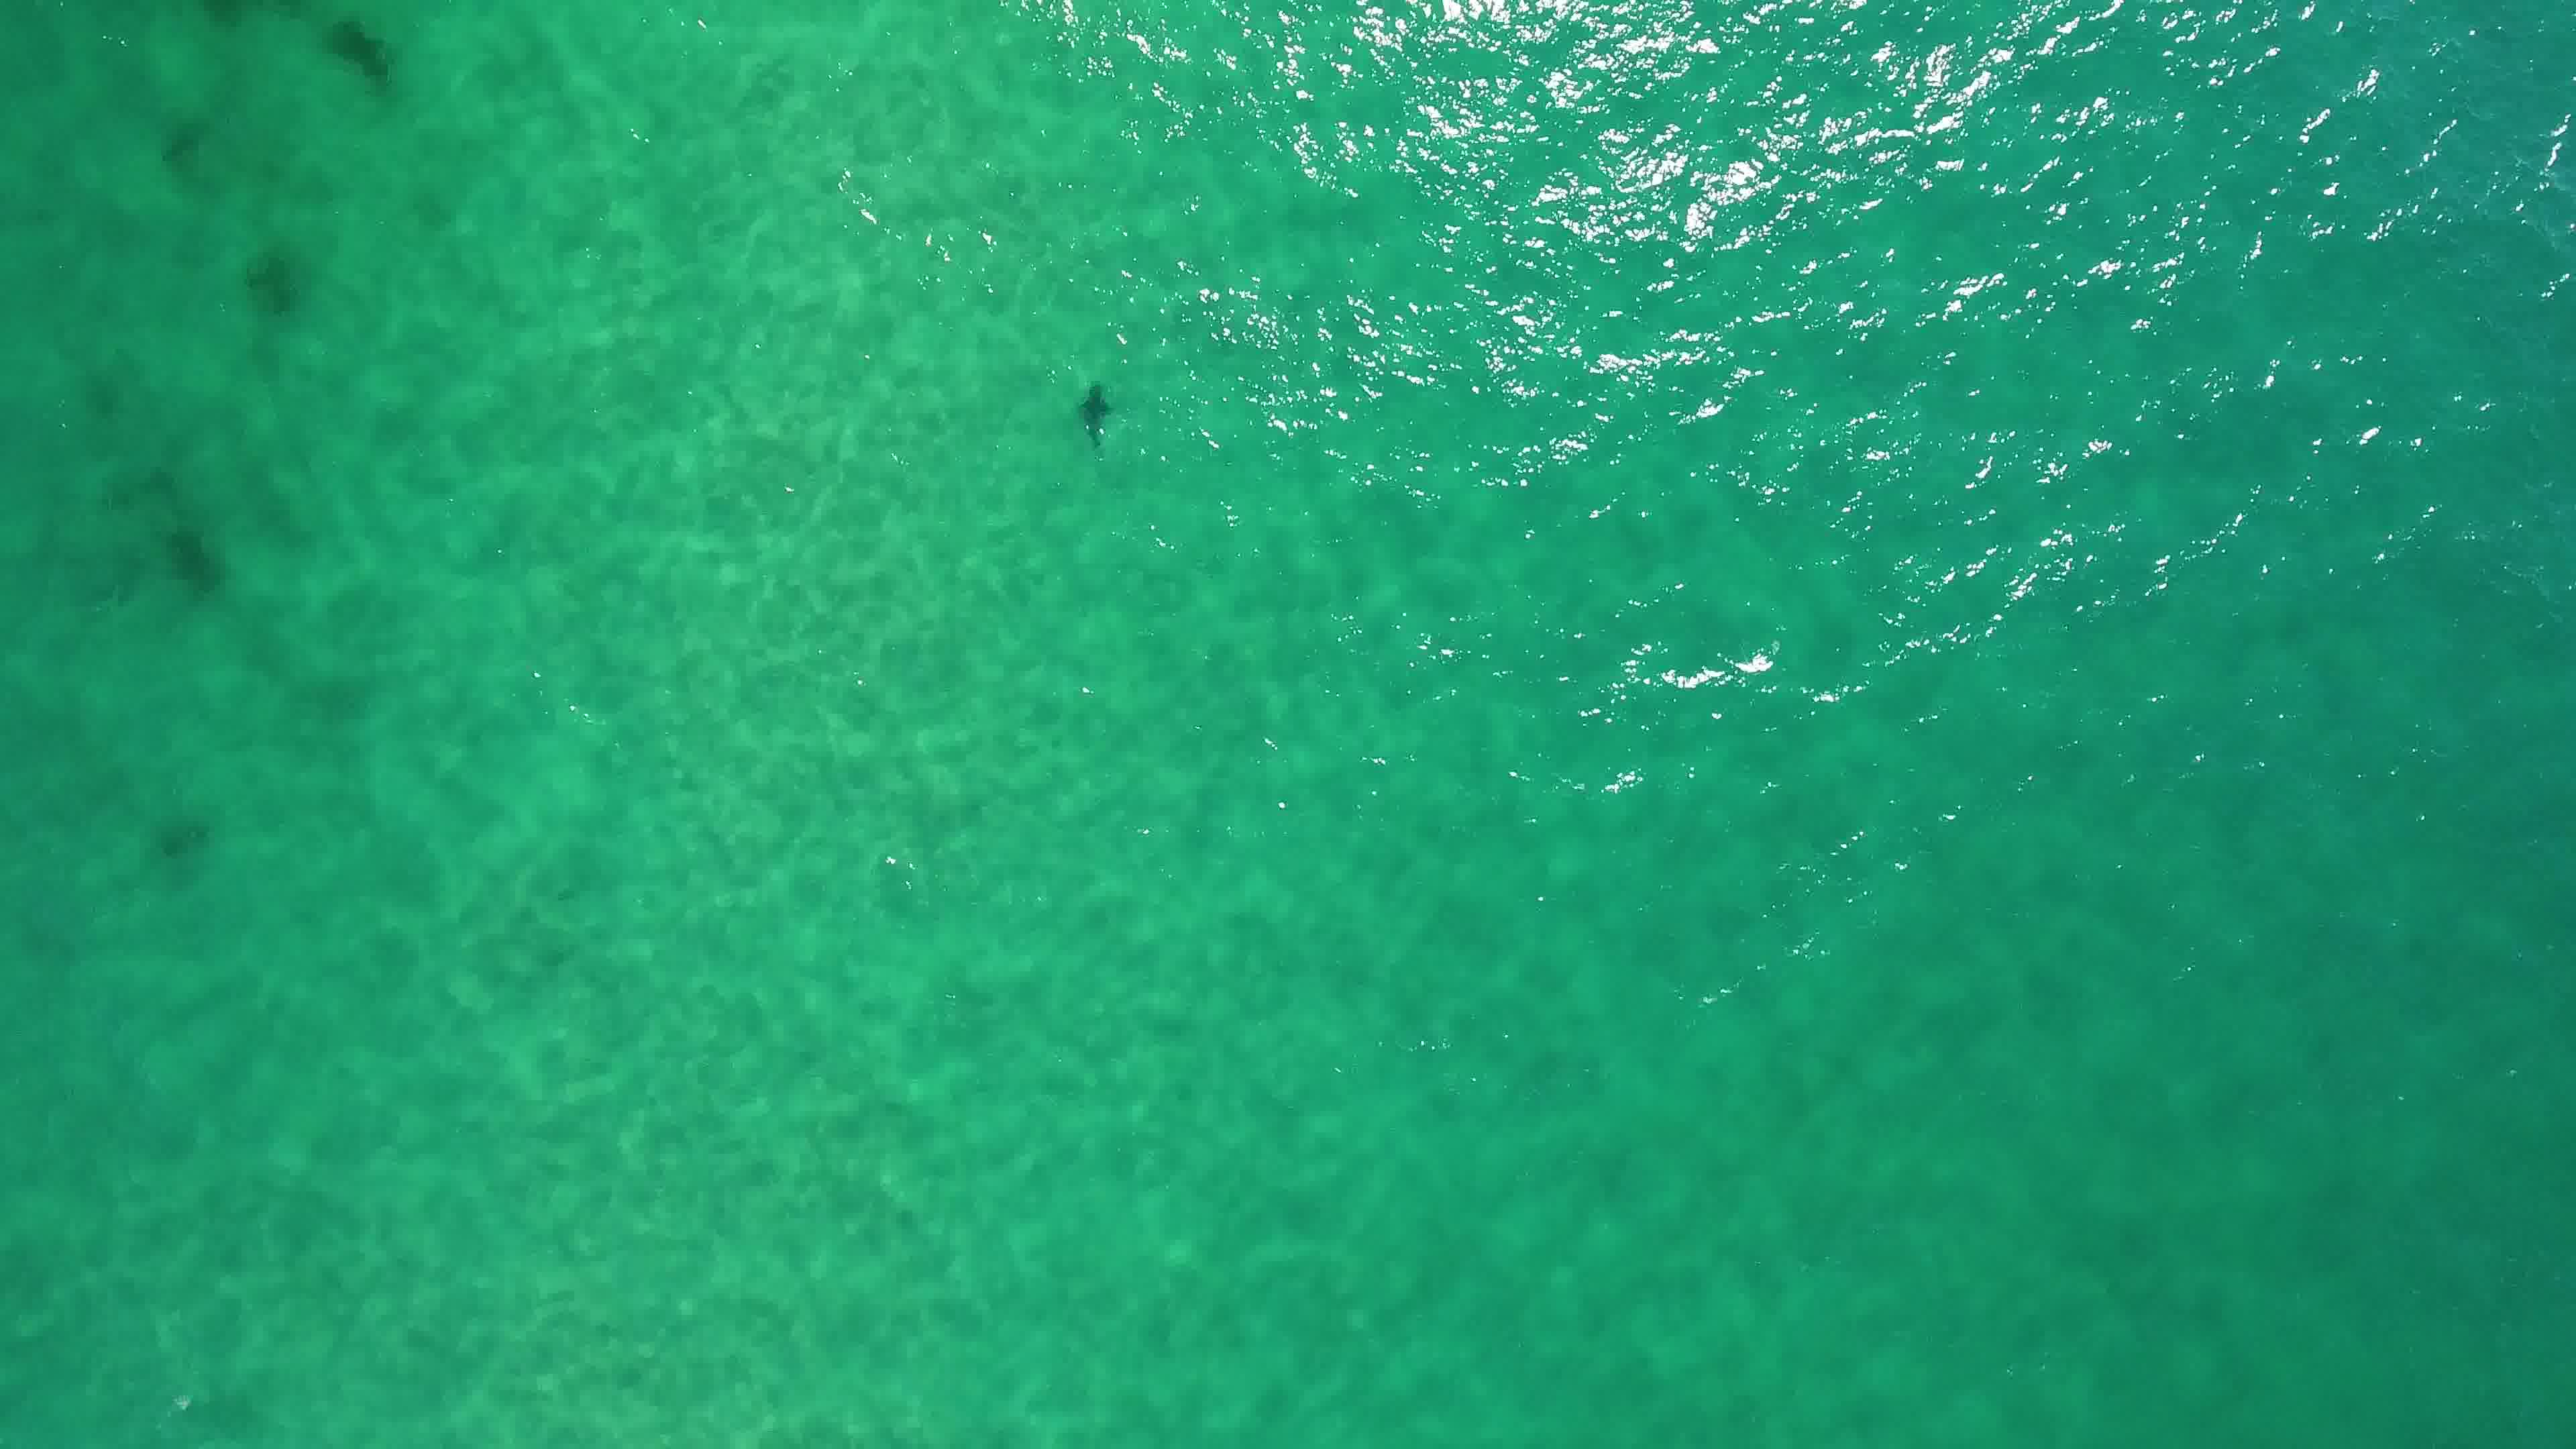shark: (1070, 377, 1118, 455)
